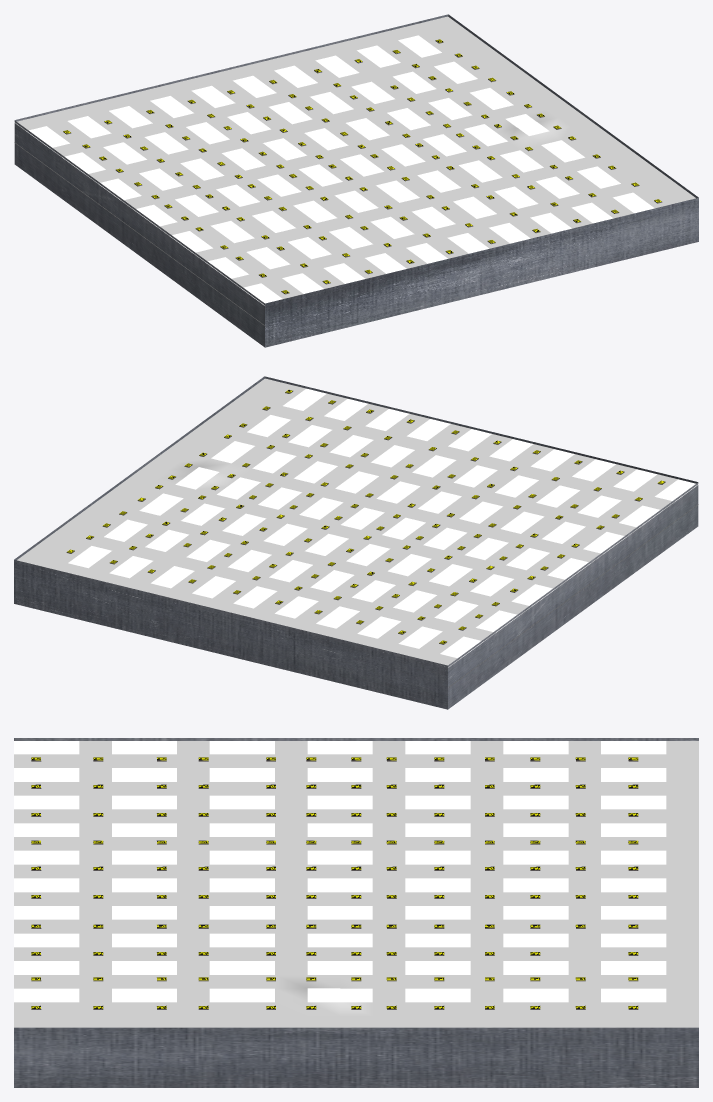
The picture shows the model from 3 angles, top to bottom: view 1: azimuth 30°, elevation 25°; view 2: azimuth 150°, elevation 25°; view 3: azimuth 270°, elevation 25°; orthographic projection. The views are drawn at different scales.
Visible parts, largest first — view 1: top_4, walls_0; view 2: top_4, walls_0; view 3: top_4, walls_0.
Part boxes in pixels (bbox=[...]): top_4: bbox=[14, 16, 695, 305]; walls_0: bbox=[14, 14, 698, 347]; top_4: bbox=[17, 378, 698, 667]; walls_0: bbox=[14, 376, 698, 709]; top_4: bbox=[14, 741, 698, 1027]; walls_0: bbox=[14, 738, 698, 1087].
Size of the model in its own units: 58.72 by 5.7 by 58.65.
6 materials, 4 textured.
